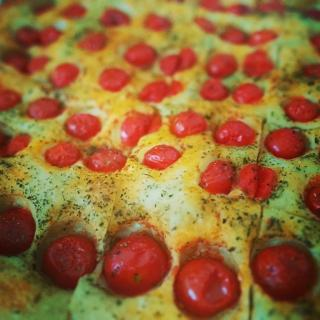Tomato: (102, 234, 169, 297), (172, 254, 237, 318), (256, 245, 320, 301), (43, 234, 97, 292), (0, 205, 36, 253), (115, 110, 158, 147), (265, 124, 307, 158), (240, 167, 281, 200), (203, 158, 237, 196), (158, 46, 196, 76), (86, 146, 126, 173), (135, 80, 186, 101), (282, 96, 320, 123), (168, 111, 208, 136), (217, 118, 254, 145), (65, 114, 99, 143), (204, 52, 239, 80), (242, 47, 275, 76), (43, 142, 78, 169), (98, 66, 131, 93), (10, 56, 50, 78), (143, 146, 179, 170), (48, 63, 80, 89), (0, 130, 29, 157), (125, 46, 157, 68), (233, 82, 263, 104), (59, 1, 90, 22), (303, 177, 319, 217), (31, 98, 61, 118), (76, 31, 106, 51), (99, 8, 129, 28), (204, 76, 227, 102), (0, 87, 23, 112), (142, 14, 171, 33), (220, 24, 245, 46), (12, 25, 34, 47), (37, 26, 59, 46), (257, 1, 285, 16), (31, 4, 57, 19), (194, 18, 218, 34), (247, 31, 274, 45), (226, 3, 248, 19), (202, 0, 224, 14), (306, 33, 320, 53), (304, 60, 320, 77)
